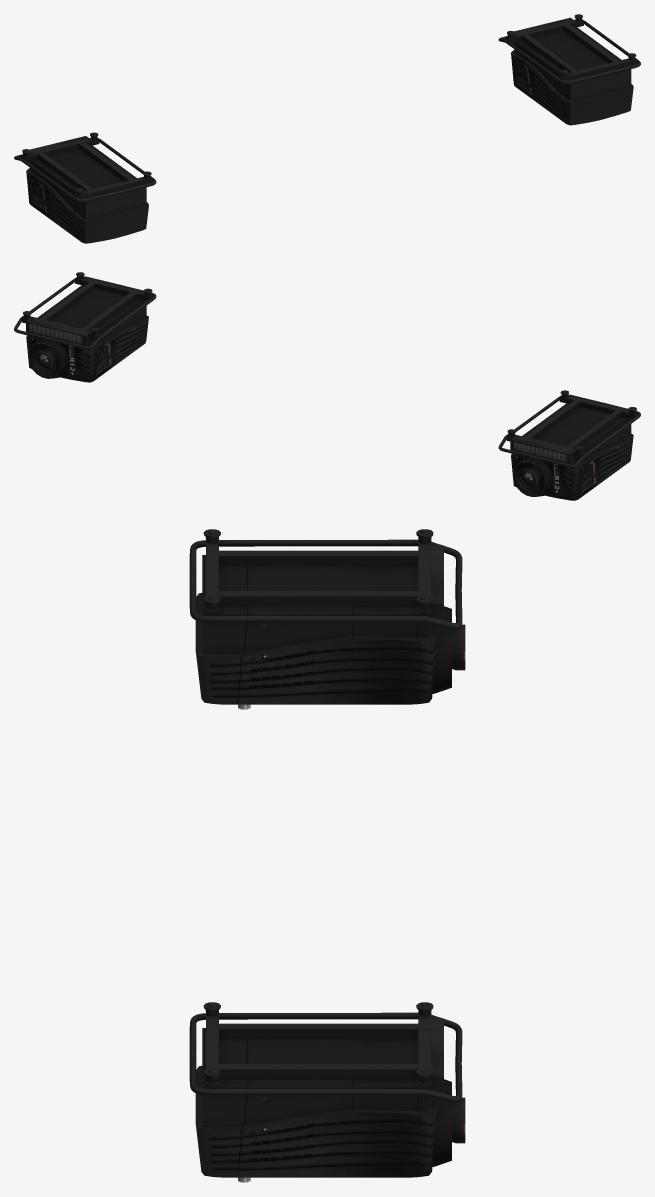
The model's file is Projector_SLMR12.DAE.
3 views of the same model, one above another, from view 1: azimuth 30°, elevation 25°; view 2: azimuth 150°, elevation 25°; view 3: azimuth 270°, elevation 25° (orthographic). The views are drawn at different scales.
Parts seen in each view (by area): view 1: Projector_SLMR12; view 2: Projector_SLMR12; view 3: Projector_SLMR12.
Part boxes in pixels (x1,y1,x2,y2): Projector_SLMR12: (14,14,640,243); Projector_SLMR12: (14,272,640,500); Projector_SLMR12: (189,529,465,1182).
Bounding box in the file's own units: 168 × 35.56 × 17.18.
1 material, 1 textured.
